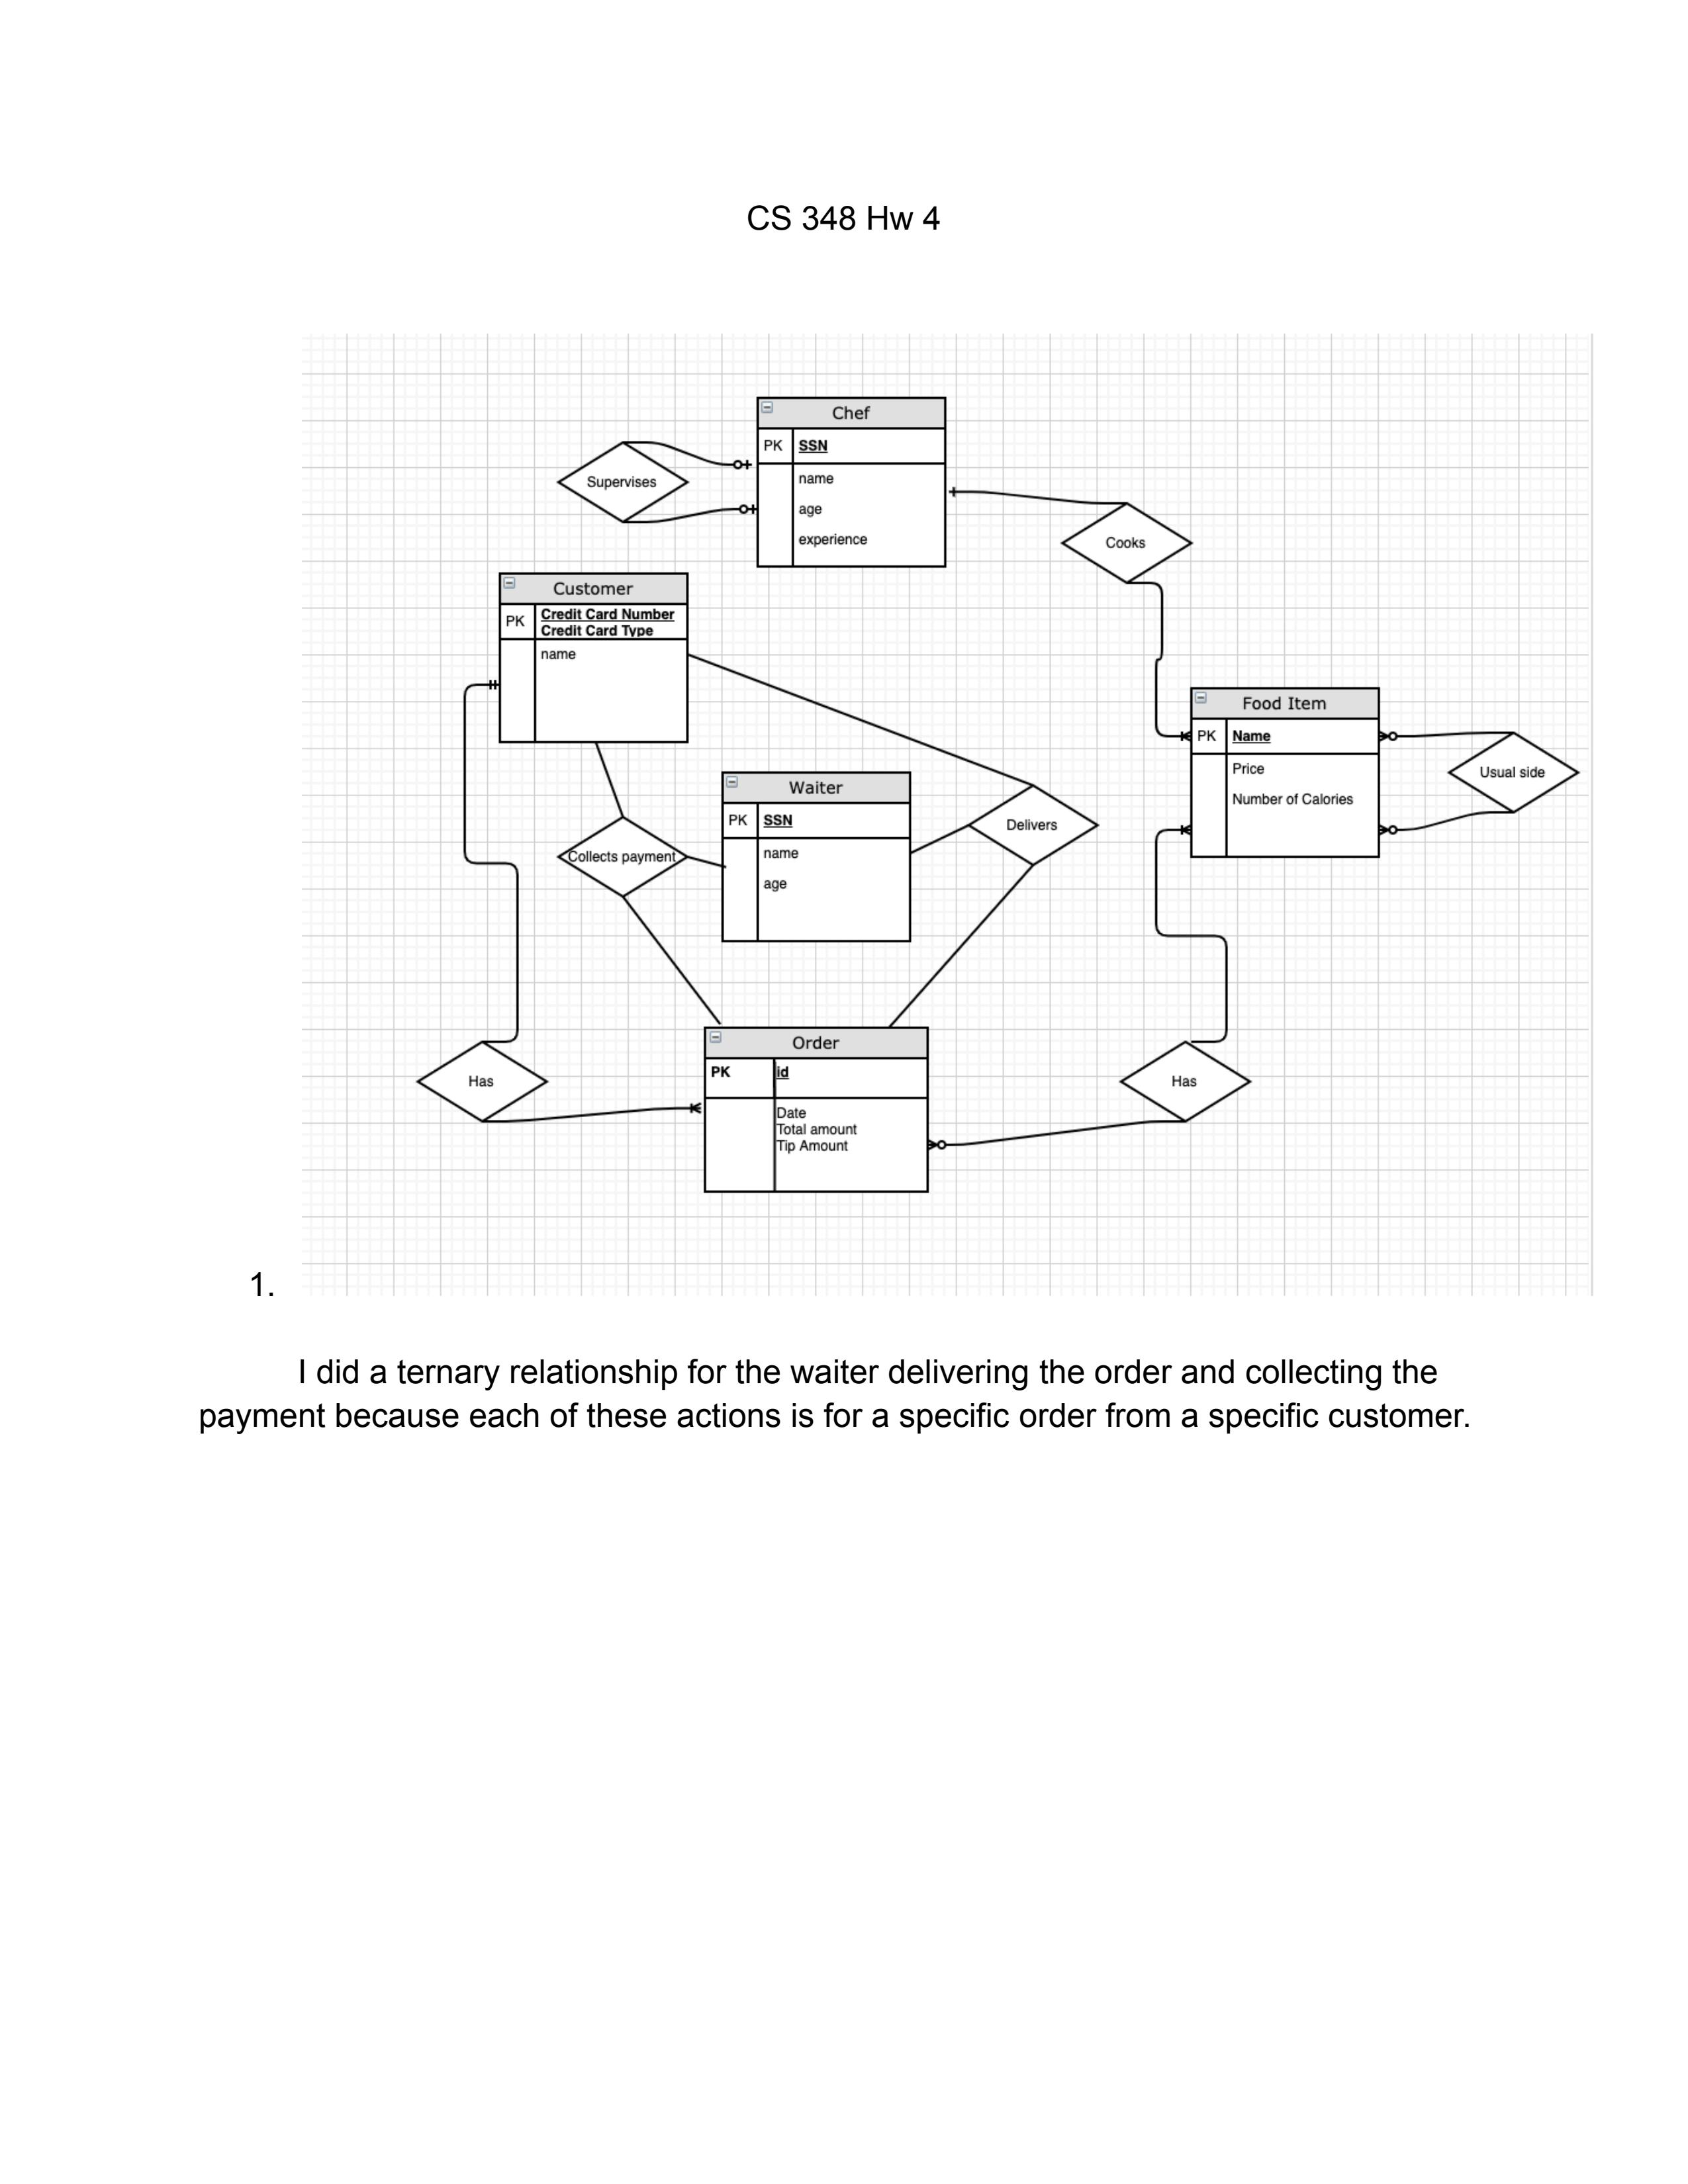Entity: (702, 1026, 931, 1193), (496, 569, 690, 745), (1188, 686, 1383, 860), (755, 395, 947, 569), (720, 769, 911, 943)
Relationship: (415, 1042, 550, 1124), (1119, 1041, 1254, 1122), (1447, 732, 1582, 814), (557, 441, 690, 523), (968, 785, 1101, 867), (1060, 503, 1195, 583), (555, 817, 688, 897)
